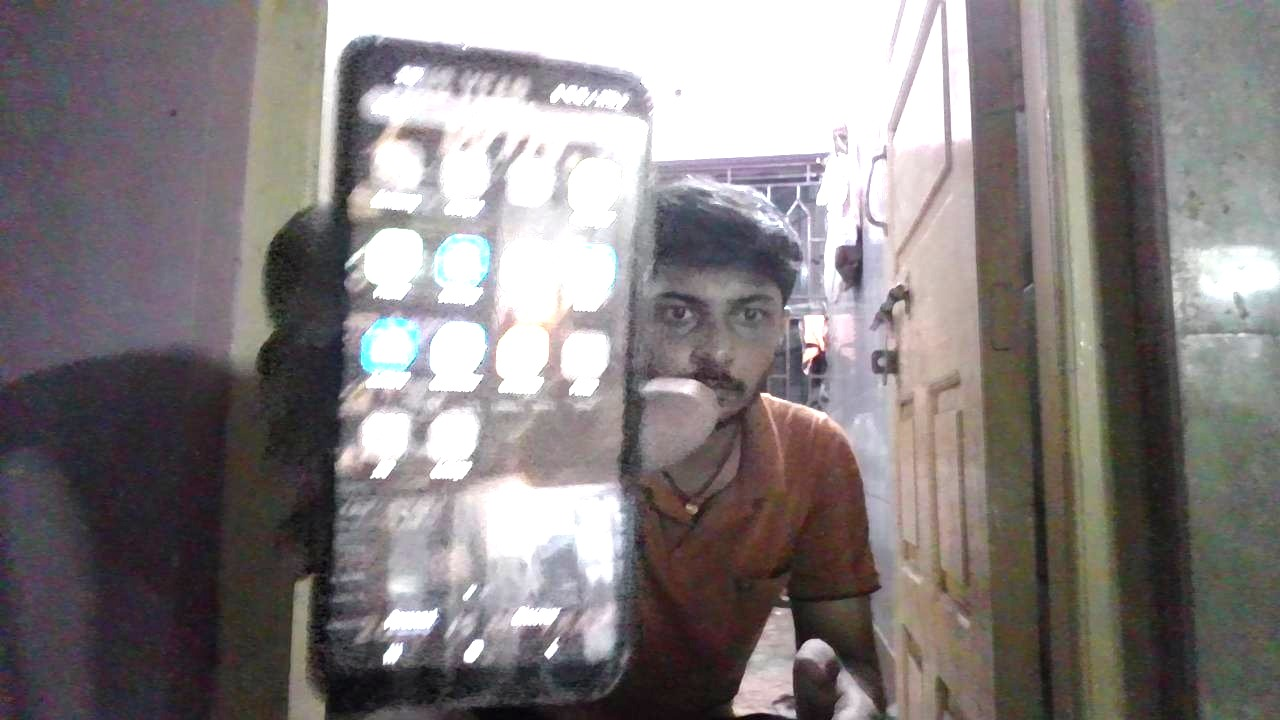red_box: (712, 427, 858, 559)
